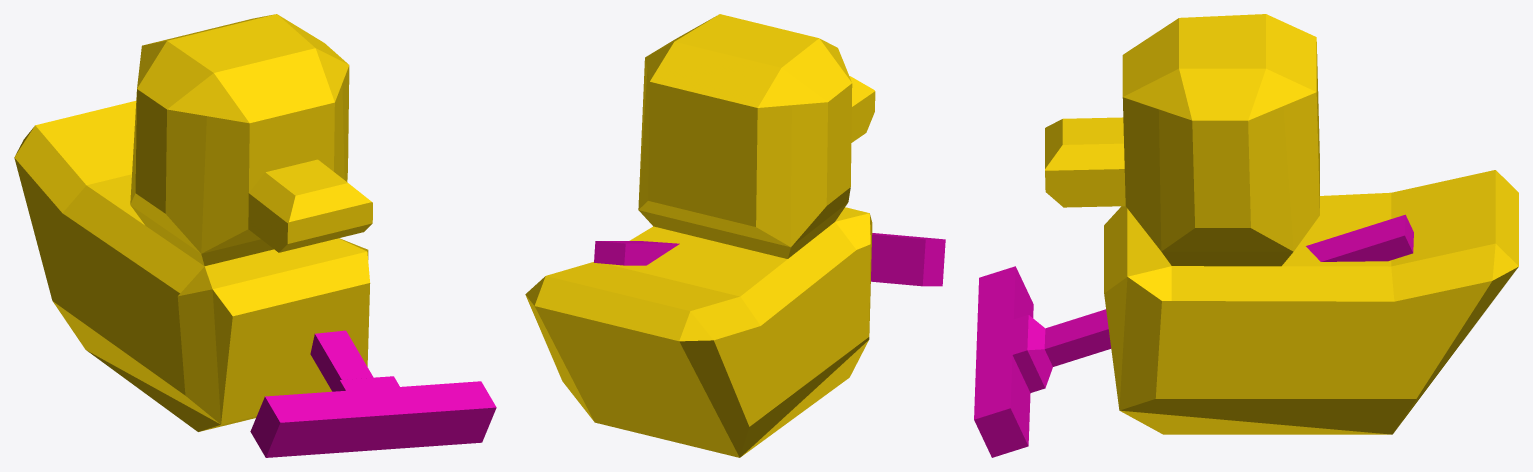
Rendered from duck.fbx.
The picture shows the model from 3 angles, left to right: view 1: azimuth 30°, elevation 25°; view 2: azimuth 150°, elevation 25°; view 3: azimuth 270°, elevation 25°; orthographic projection. The views are drawn at different scales.
Visible parts, largest first — view 1: Cube, Cube.001; view 2: Cube, Cube.001; view 3: Cube, Cube.001.
Part boxes in pixels (x1,y1,x2,y2): Cube: (14, 14, 372, 431); Cube.001: (250, 330, 496, 457); Cube: (525, 14, 875, 457); Cube.001: (594, 233, 945, 286); Cube: (1045, 14, 1518, 434); Cube.001: (974, 214, 1413, 457).
Bounding box in the file's own units: 293 × 424 × 588.
